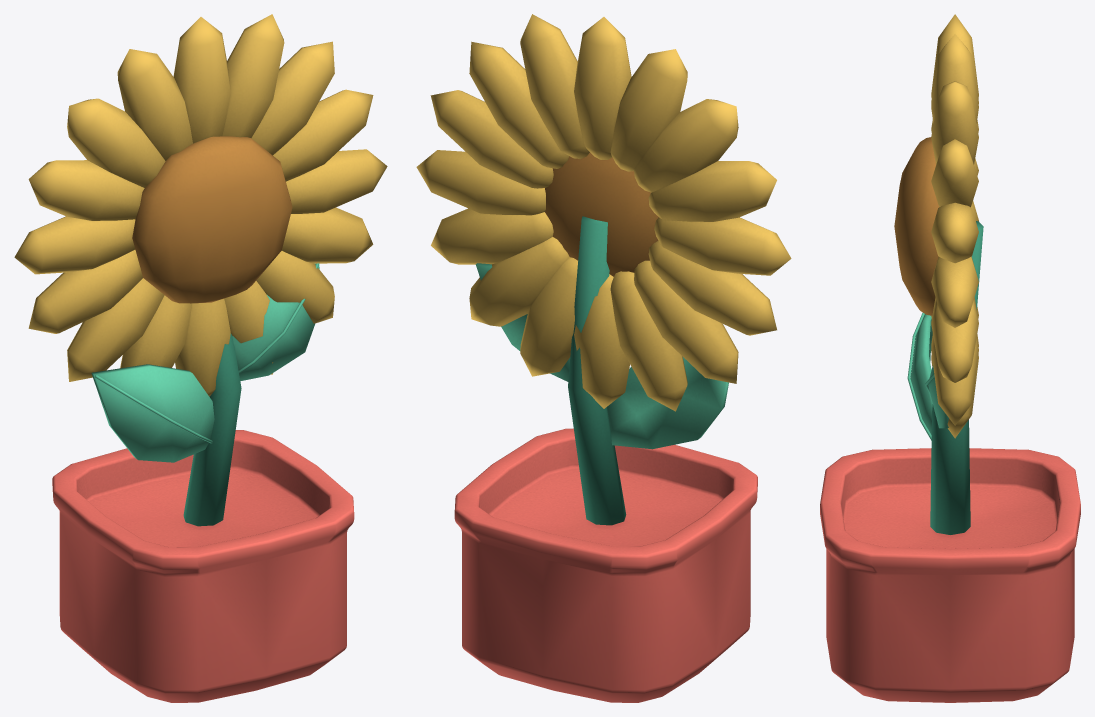
Rendered from SM_L1_Sunflower_A.fbx.
3 renders of one model, left to right at view 1: azimuth 30°, elevation 25°; view 2: azimuth 150°, elevation 25°; view 3: azimuth 270°, elevation 25°, orthographic.
Visible parts, largest first — view 1: SM_L1_Sunflower_A; view 2: SM_L1_Sunflower_A; view 3: SM_L1_Sunflower_A.
Part boxes in pixels (x1,y1,x2,y2): SM_L1_Sunflower_A: (14,14,387,702); SM_L1_Sunflower_A: (416,14,791,702); SM_L1_Sunflower_A: (820,14,1080,702).
Bounding box in the file's own units: 0.4306 × 0.7 × 0.2642.
